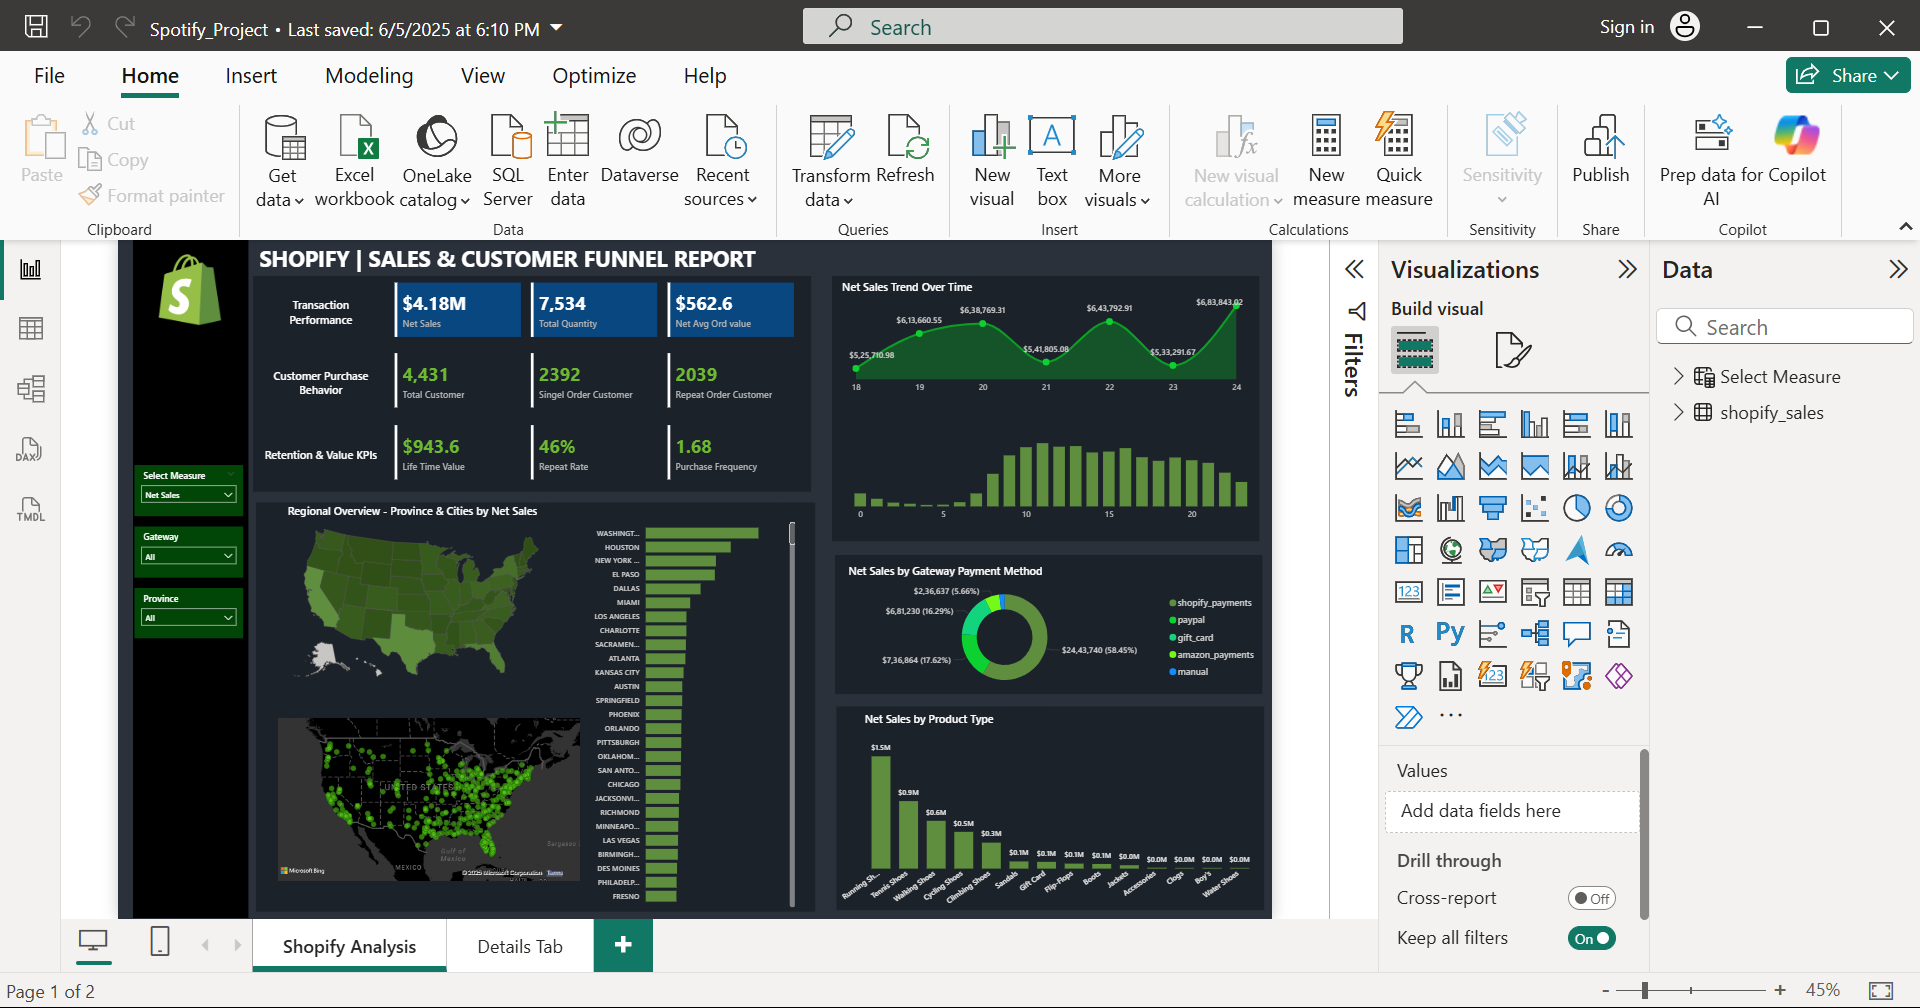

What the dashboard file says about the page in this screenshot:
{"tool":"powerbi","page":{"name":"Shopify Analysis","canvas":[1700,1000],"ordinal":0},"visuals":[{"type":"shape","box":[21.1,0,170.1,998.9],"z":0},{"type":"textbox","box":[203.1,0,760,58.5],"z":1000},{"type":"shape","box":[199.8,52.2,822.2,317.8],"z":2000},{"type":"cardVisual","fields":{"Data":["shopify_sales.Net Sales","shopify_sales.Total Quantity","shopify_sales.Net Avg Ord value"]},"box":[402.2,56.6,599.9,90.4],"z":3000},{"type":"cardVisual","fields":{"Data":["shopify_sales.Total Customer","shopify_sales.Singel Order Customer","shopify_sales.Repeat Order Customer"]},"box":[402.5,161.6,600,90.8],"z":4000},{"type":"cardVisual","fields":{"Data":["shopify_sales.Transaction Performance"]},"box":[199.5,54.8,200,93.8],"z":5000},{"type":"cardVisual","fields":{"Data":["shopify_sales.Customer Purchase Behavior"]},"box":[199.5,160,200,93.8],"z":6000},{"type":"cardVisual","fields":{"Data":["shopify_sales.Life Time Value","shopify_sales.Repeat Rate","shopify_sales.Purchase Frequency"]},"box":[402.5,266.9,600,90.8],"z":7000},{"type":"cardVisual","fields":{"Data":["shopify_sales.Retention & Value KPIs"]},"box":[199.5,265.4,200,93.8],"z":8000},{"type":"shape","box":[202.6,386.8,823.7,602.6],"z":9000},{"type":"shapeMap","fields":{"Value":["shopify_sales.Net Sales"],"Category":["shopify_sales.Billing Address Province"]},"box":[211.1,409.5,454,250.8],"z":10000},{"type":"slicer","fields":{"Values":["Select Measure.Select Measure"]},"box":[24.9,331.4,160,75.1],"z":11000},{"type":"map","fields":{"Category":["shopify_sales.New City"]},"box":[228.9,697.4,455.3,250],"z":12000},{"type":"clusteredBarChart","fields":{"Y":["shopify_sales.Net Sales"],"Category":["shopify_sales.CITY"]},"box":[685.7,402.9,317.1,585.7],"z":13000},{"type":"cardVisual","fields":{"Data":["shopify_sales.Map Title"]},"box":[203.3,361.7,461.7,61.7],"z":14000},{"type":"shape","box":[1052.3,52.3,629.5,390.9],"z":15000},{"type":"areaChart","fields":{"Y":["shopify_sales.Net Sales"],"Category":["shopify_sales.Invoice Date.Variation.Date Hierarchy.Day"]},"box":[1070.7,73.2,590.2,161],"z":16000},{"type":"columnChart","fields":{"Y":["shopify_sales.Net Sales"],"Category":["shopify_sales.Hour"]},"box":[1077.3,261.4,590.9,161.4],"z":17000},{"type":"cardVisual","fields":{"Data":["shopify_sales.Trend Title"]},"box":[1011,34.1,301.2,48.8],"z":18000},{"type":"shape","box":[1056.9,464.7,629.4,205],"z":19000},{"type":"donutChart","fields":{"Y":["shopify_sales.Net Sales"],"Category":["shopify_sales.Gateway"]},"box":[1058.8,500,629.4,170.6],"z":20000},{"type":"cardVisual","fields":{"Data":["shopify_sales.Gateway Title"]},"box":[1026.4,450,383.3,50],"z":21000},{"type":"shape","box":[1058,688,630,300],"z":22000},{"type":"columnChart","fields":{"Y":["shopify_sales.Net Sales"],"Category":["shopify_sales.Product Type"]},"box":[1058.5,719.5,629.3,268.3],"z":23000},{"type":"cardVisual","fields":{"Data":["shopify_sales.Product Title"]},"box":[1051.1,670.2,286.2,52.1],"z":24000},{"type":"slicer","fields":{"Values":["shopify_sales.Gateway"]},"box":[25,422.1,159.7,75.3],"z":25000},{"type":"image","box":[35.3,15.5,141.4,114.9],"z":26000},{"type":"slicer","fields":{"Values":["shopify_sales.Billing Address Province"]},"box":[25,513,159.7,74],"z":27000}]}

Visuals, with their boxes on the page's 1700x1000 design canvas (x1, y1, x2, y2). These are canvas units, not pixel positions in the 1920x1008 screenshot, which may show the page scaled, cropped or inside an application window:
shape: rect(21, 0, 191, 999)
textbox: rect(203, 0, 963, 58)
shape: rect(200, 52, 1022, 370)
cardVisual - shopify_sales.Net Sales x shopify_sales.Total Quantity: rect(402, 57, 1002, 147)
cardVisual - shopify_sales.Total Customer x shopify_sales.Singel Order Customer: rect(402, 162, 1002, 252)
cardVisual - shopify_sales.Transaction Performance: rect(200, 55, 400, 149)
cardVisual - shopify_sales.Customer Purchase Behavior: rect(200, 160, 400, 254)
cardVisual - shopify_sales.Life Time Value x shopify_sales.Repeat Rate: rect(402, 267, 1002, 358)
cardVisual - shopify_sales.Retention & Value KPIs: rect(200, 265, 400, 359)
shape: rect(203, 387, 1026, 989)
shapeMap - shopify_sales.Net Sales x shopify_sales.Billing Address Province: rect(211, 410, 665, 660)
slicer - Select Measure.Select Measure: rect(25, 331, 185, 406)
map - shopify_sales.New City: rect(229, 697, 684, 947)
clusteredBarChart - shopify_sales.Net Sales x shopify_sales.CITY: rect(686, 403, 1003, 989)
cardVisual - shopify_sales.Map Title: rect(203, 362, 665, 423)
shape: rect(1052, 52, 1682, 443)
areaChart - shopify_sales.Net Sales x shopify_sales.Invoice Date.Variation.Date Hierarchy.Day: rect(1071, 73, 1661, 234)
columnChart - shopify_sales.Net Sales x shopify_sales.Hour: rect(1077, 261, 1668, 423)
cardVisual - shopify_sales.Trend Title: rect(1011, 34, 1312, 83)
shape: rect(1057, 465, 1686, 670)
donutChart - shopify_sales.Net Sales x shopify_sales.Gateway: rect(1059, 500, 1688, 671)
cardVisual - shopify_sales.Gateway Title: rect(1026, 450, 1410, 500)
shape: rect(1058, 688, 1688, 988)
columnChart - shopify_sales.Net Sales x shopify_sales.Product Type: rect(1058, 720, 1688, 988)
cardVisual - shopify_sales.Product Title: rect(1051, 670, 1337, 722)
slicer - shopify_sales.Gateway: rect(25, 422, 185, 497)
image: rect(35, 16, 177, 130)
slicer - shopify_sales.Billing Address Province: rect(25, 513, 185, 587)
